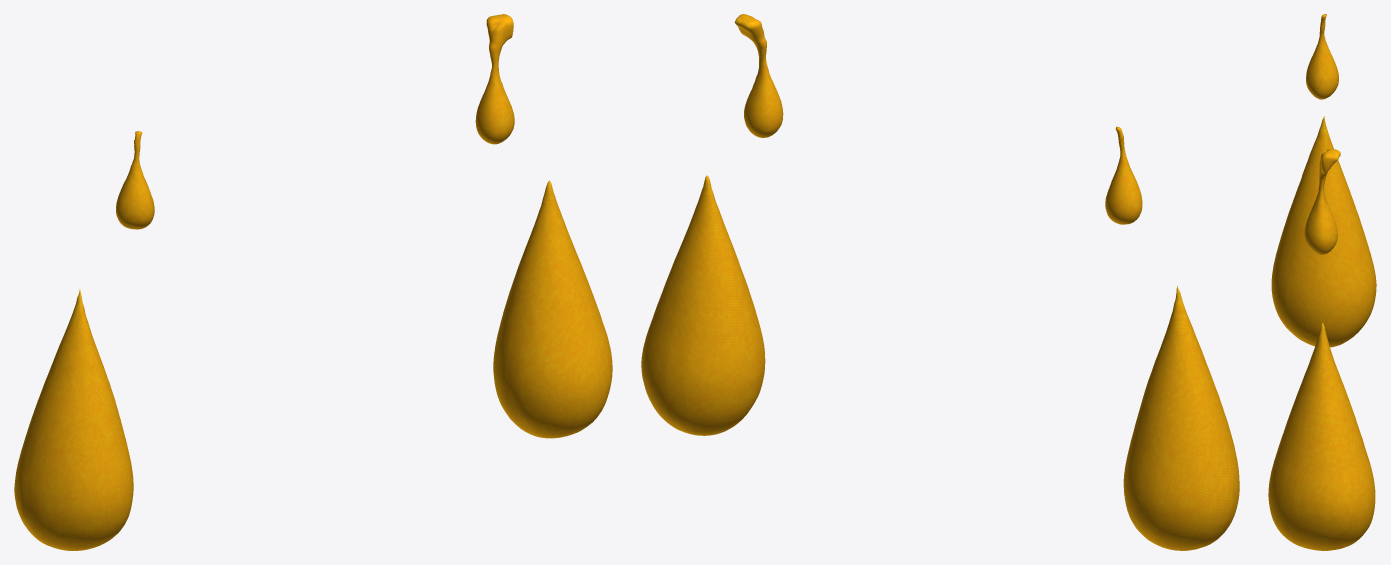
File: blacktearorange.glb
3 views of the same model, side by side, from view 1: azimuth 30°, elevation 25°; view 2: azimuth 150°, elevation 25°; view 3: azimuth 270°, elevation 25° (orthographic). The views are drawn at different scales.
Visible parts, largest first — view 1: lagrange_node; view 2: lagrange_node; view 3: lagrange_node.
Part boxes in pixels (x1,y1,x2,y2): lagrange_node: (14,14,612,550); lagrange_node: (641,14,1239,550); lagrange_node: (1268,14,1376,550).
Bounding box in the file's own units: 1.78 × 1.24 × 0.3244.
1 material, 1 textured.
